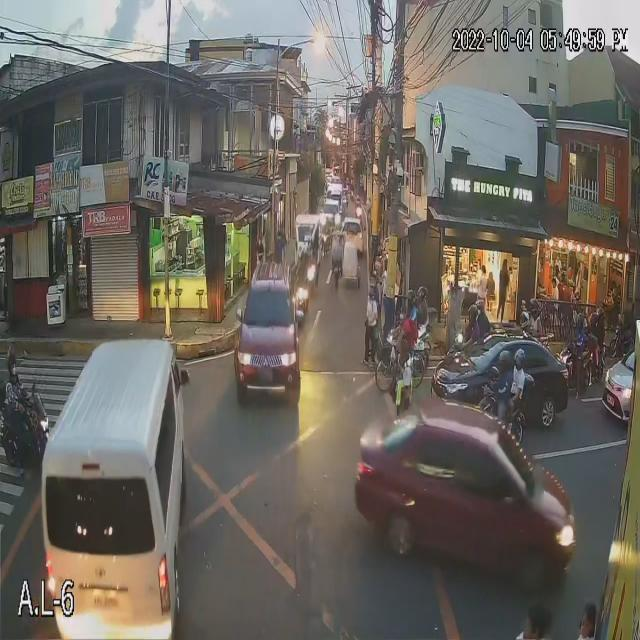helmet: (1, 347, 33, 387), (570, 311, 595, 333), (510, 345, 526, 378), (498, 351, 515, 375), (473, 297, 488, 319), (518, 309, 530, 332), (587, 313, 604, 329), (417, 283, 432, 299), (404, 292, 416, 311), (596, 306, 607, 326), (534, 299, 544, 316), (466, 305, 476, 319)
motorcycle: (0, 396, 60, 471), (472, 389, 535, 446), (558, 350, 594, 392)
rider: (3, 338, 33, 438), (491, 349, 514, 415), (510, 342, 531, 407), (572, 311, 590, 376), (526, 294, 547, 345), (402, 289, 421, 336), (475, 295, 492, 345), (419, 279, 434, 330), (464, 301, 480, 347), (598, 305, 610, 347), (586, 309, 598, 349), (518, 307, 532, 341)
